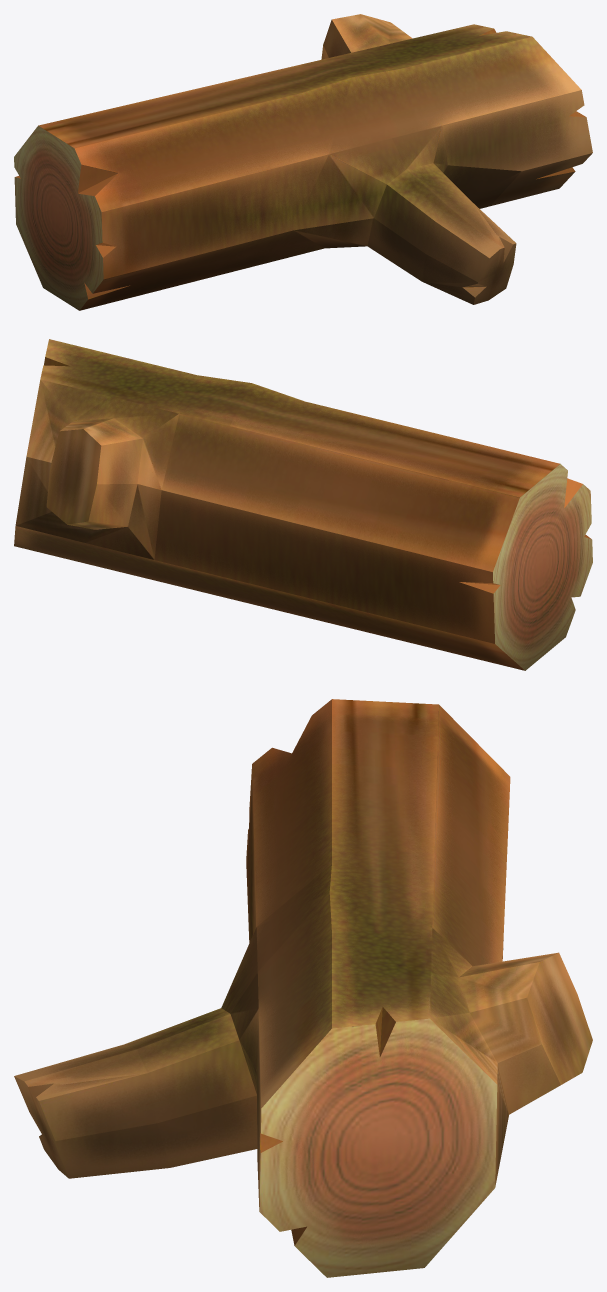
File: LogFBX.fbx
The picture shows the model from 3 angles, top to bottom: view 1: azimuth 30°, elevation 25°; view 2: azimuth 150°, elevation 25°; view 3: azimuth 270°, elevation 25°; orthographic projection. The views are drawn at different scales.
Parts seen in each view (by area): view 1: Cylinder.001; view 2: Cylinder.001; view 3: Cylinder.001.
Boxes of the visible parts, x1,y1,x2,y2 form: Cylinder.001: (14, 14, 592, 310); Cylinder.001: (14, 339, 592, 670); Cylinder.001: (14, 699, 592, 1277).
Size of the model in its own units: 83.5 by 26.92 by 57.53.
1 material, 1 textured.
